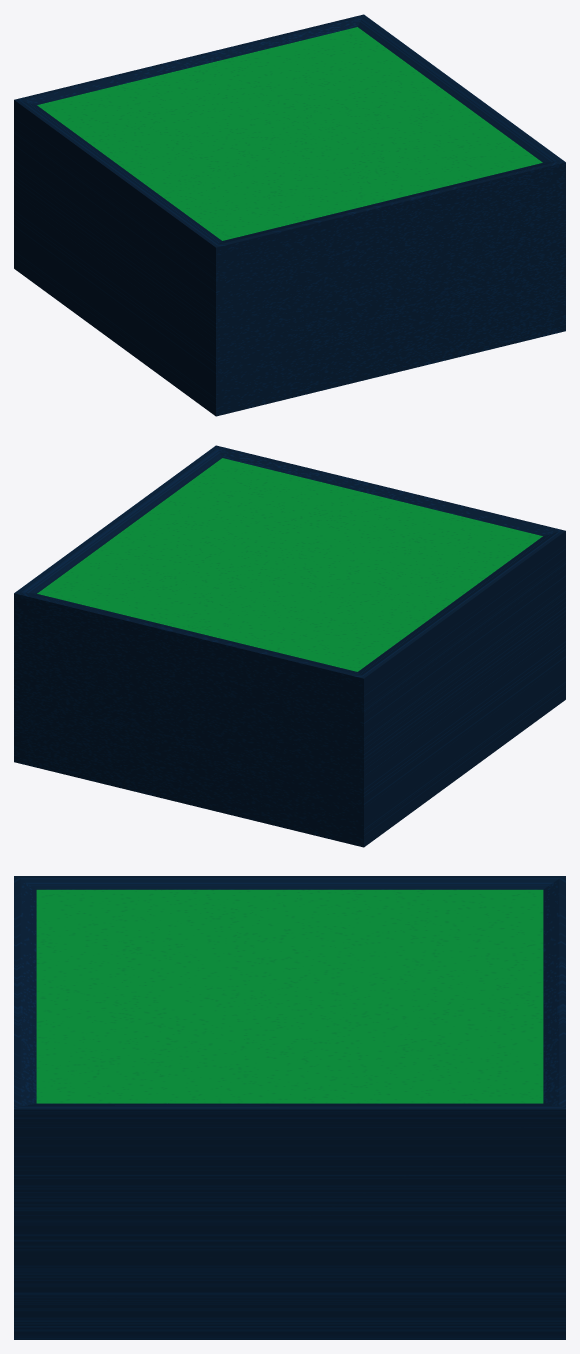
File: board.fbx
3 renders of one model, top to bottom at view 1: azimuth 30°, elevation 25°; view 2: azimuth 150°, elevation 25°; view 3: azimuth 270°, elevation 25°, orthographic. The views are drawn at different scales.
Parts seen in each view (by area): view 1: pCube1; view 2: pCube1; view 3: pCube1.
Boxes of the visible parts, box(x1,y1,x2,y2) form: pCube1: box(14, 14, 565, 416); pCube1: box(14, 445, 565, 847); pCube1: box(14, 876, 565, 1339).
Bounding box in the file's own units: 4.61 × 2.13 × 4.61.
Materials: 1 (1 with a texture image).
